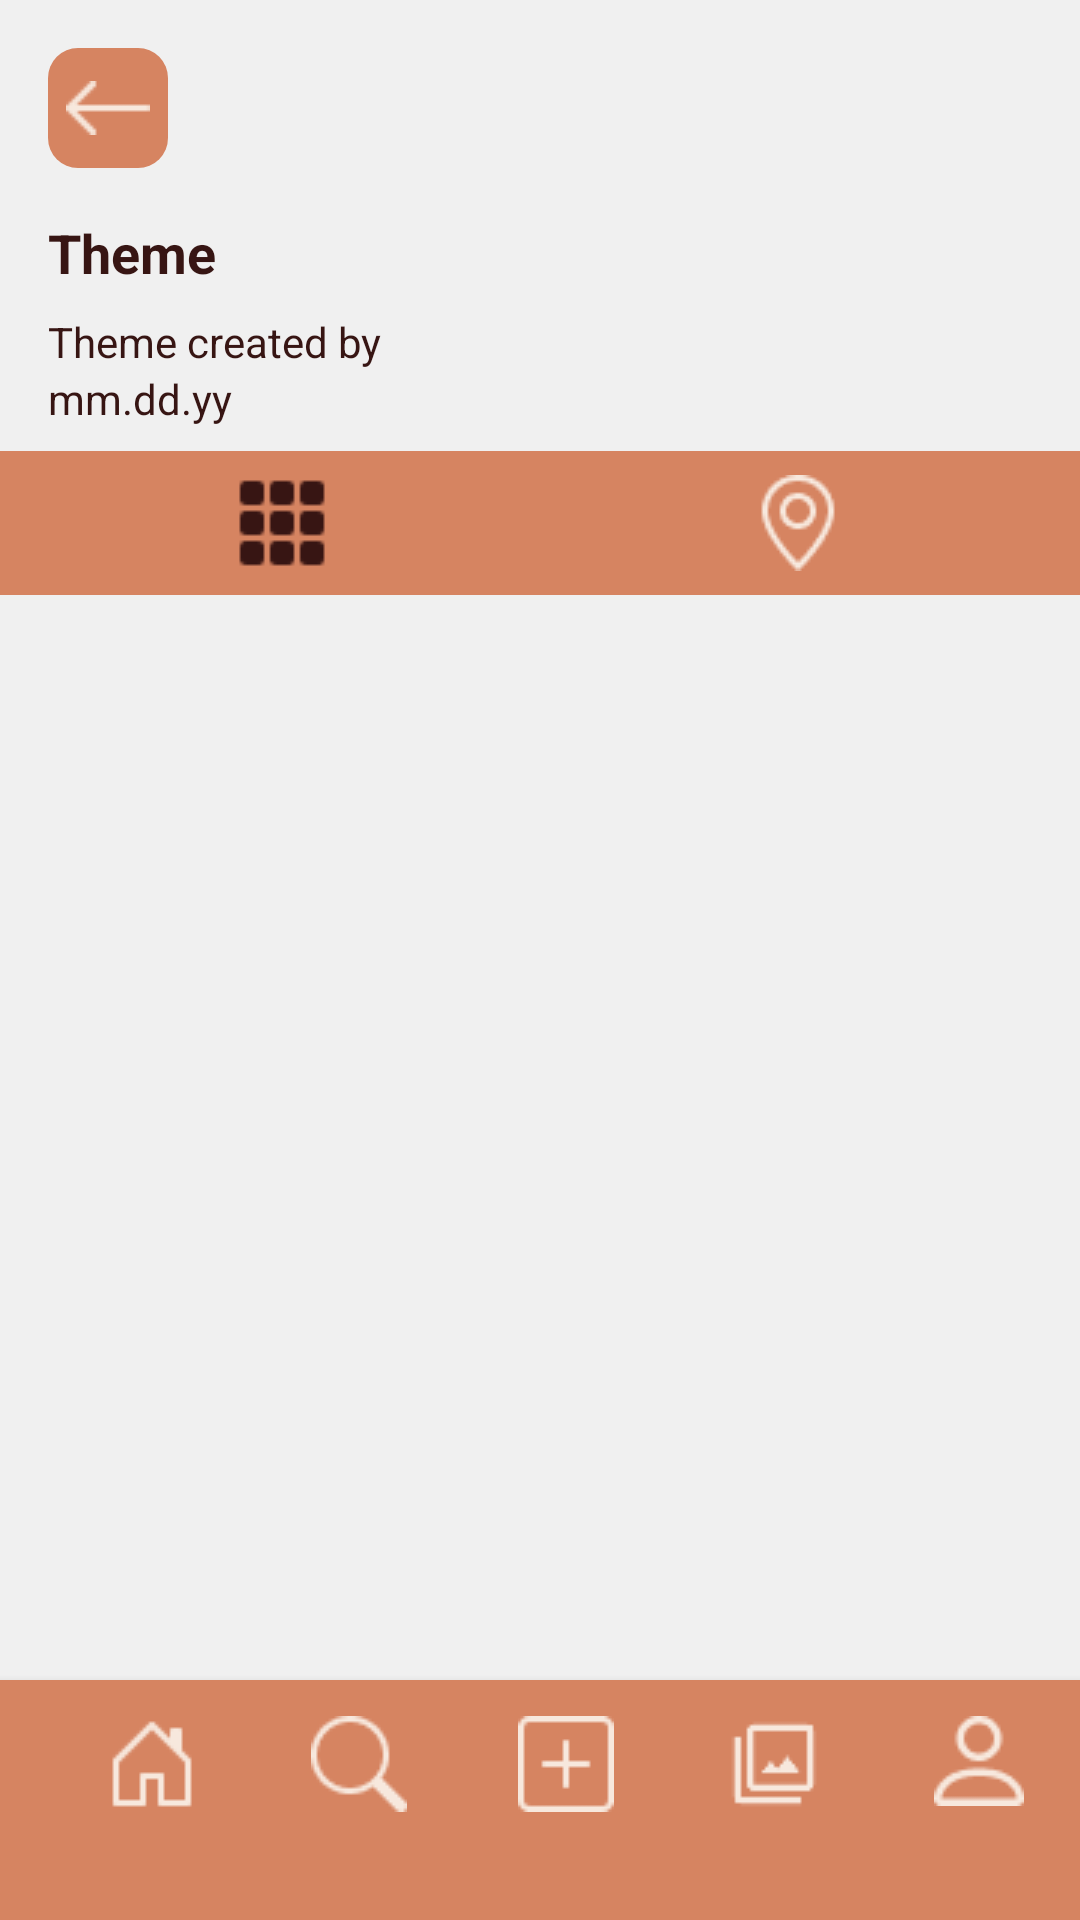

Icon bounding boxes for this 1080w x 1920h phone screenshot, format (x1, y1, x2, y2):
geo: (761, 475, 835, 571)
grid gap: (239, 480, 325, 566)
house: (112, 1721, 192, 1807)
left arrow: (48, 48, 168, 168)
person: (934, 1716, 1024, 1806)
plus square: (518, 1716, 614, 1812)
search: (311, 1716, 407, 1812)
